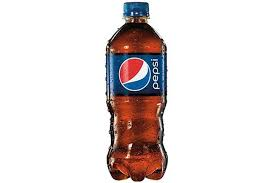Pepsi: (94, 1, 171, 183)
